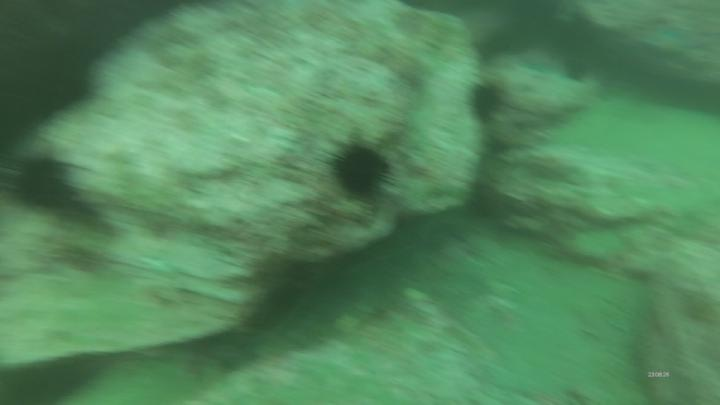echinus: (8, 152, 87, 215), (328, 139, 392, 204), (467, 79, 511, 128)
holothurian: (652, 287, 688, 365), (633, 330, 670, 405)
